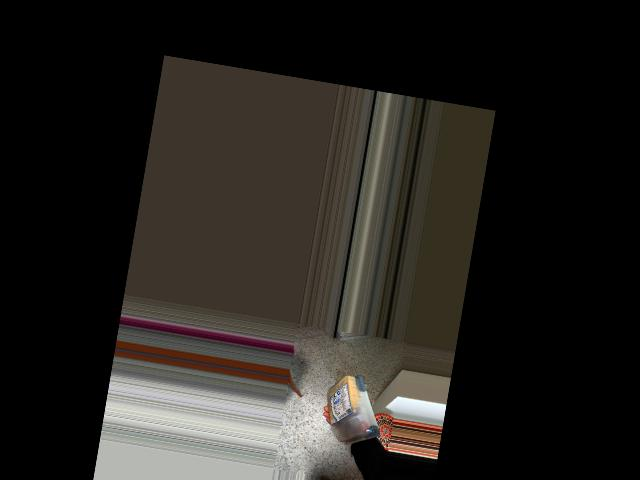cheese: (316, 367, 388, 460)
